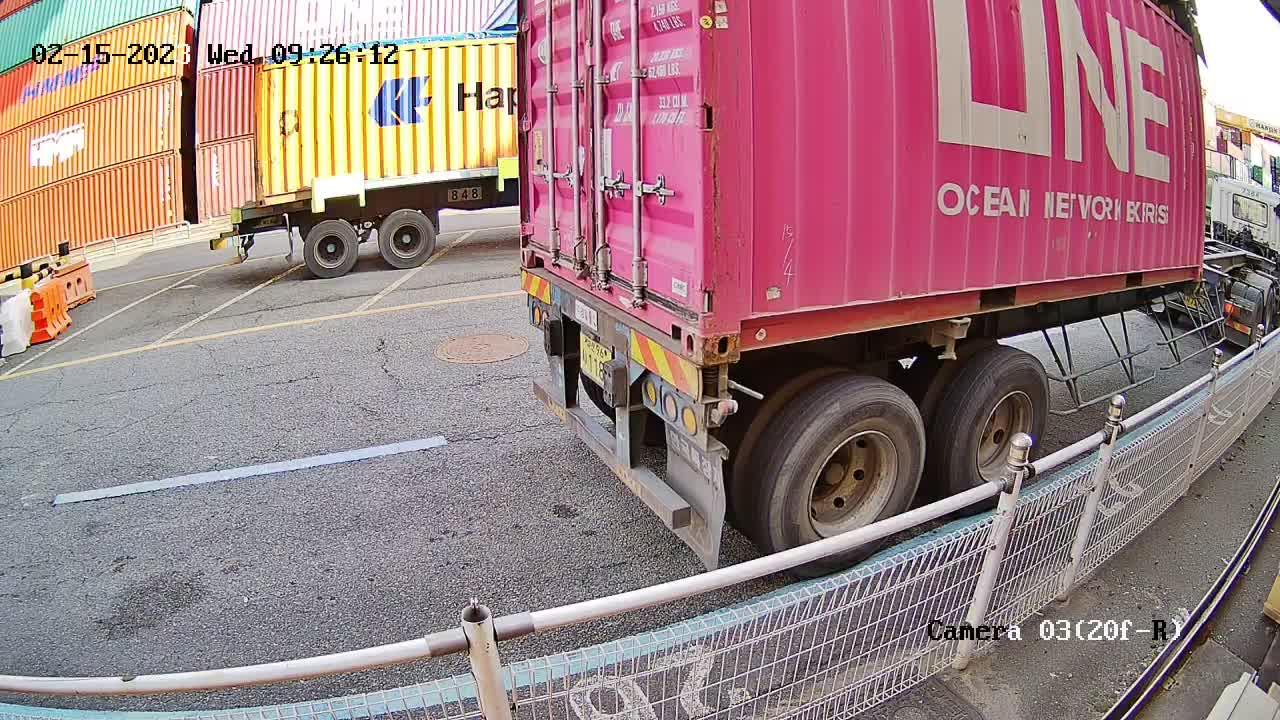Chassis: (519, 270, 709, 407)
Cone: (700, 362, 736, 405)
Hole_L: (706, 282, 790, 367), (517, 222, 548, 276)
Hole_R: (649, 268, 705, 368)
Tire: (767, 388, 927, 547), (954, 356, 1049, 484)
